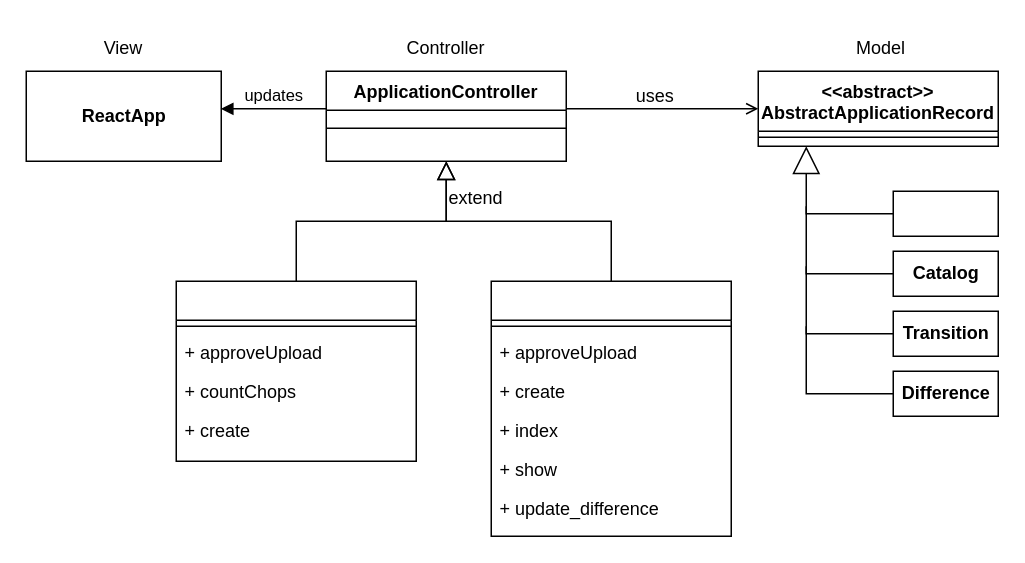
Image size: 1025x563. Some labels were removed from this diagram. The shapes that lost their labels are listed below. From the top down, each one's box as (x1, y1, x2, y2) in pixels, then its label:
(892, 190, 998, 236): Chop
(175, 280, 416, 461): CatalogController
(490, 280, 731, 536): TransitionController
